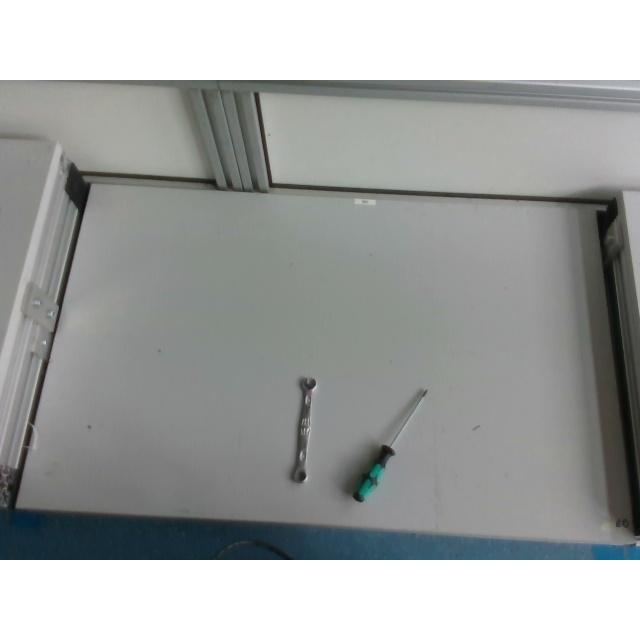Screwdriver: (351, 387, 429, 503)
Wrench: (290, 376, 318, 484)
